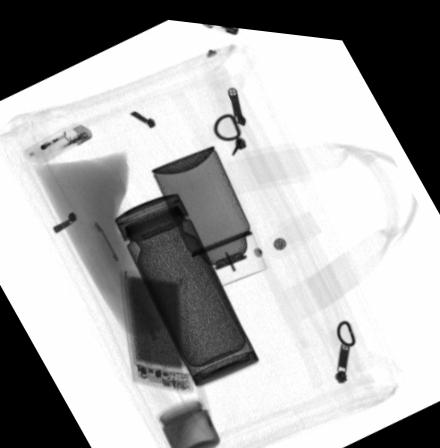Lighter: (23, 120, 90, 164)
Powerbank: (120, 267, 194, 386)
Sprayer: (151, 140, 267, 285)
